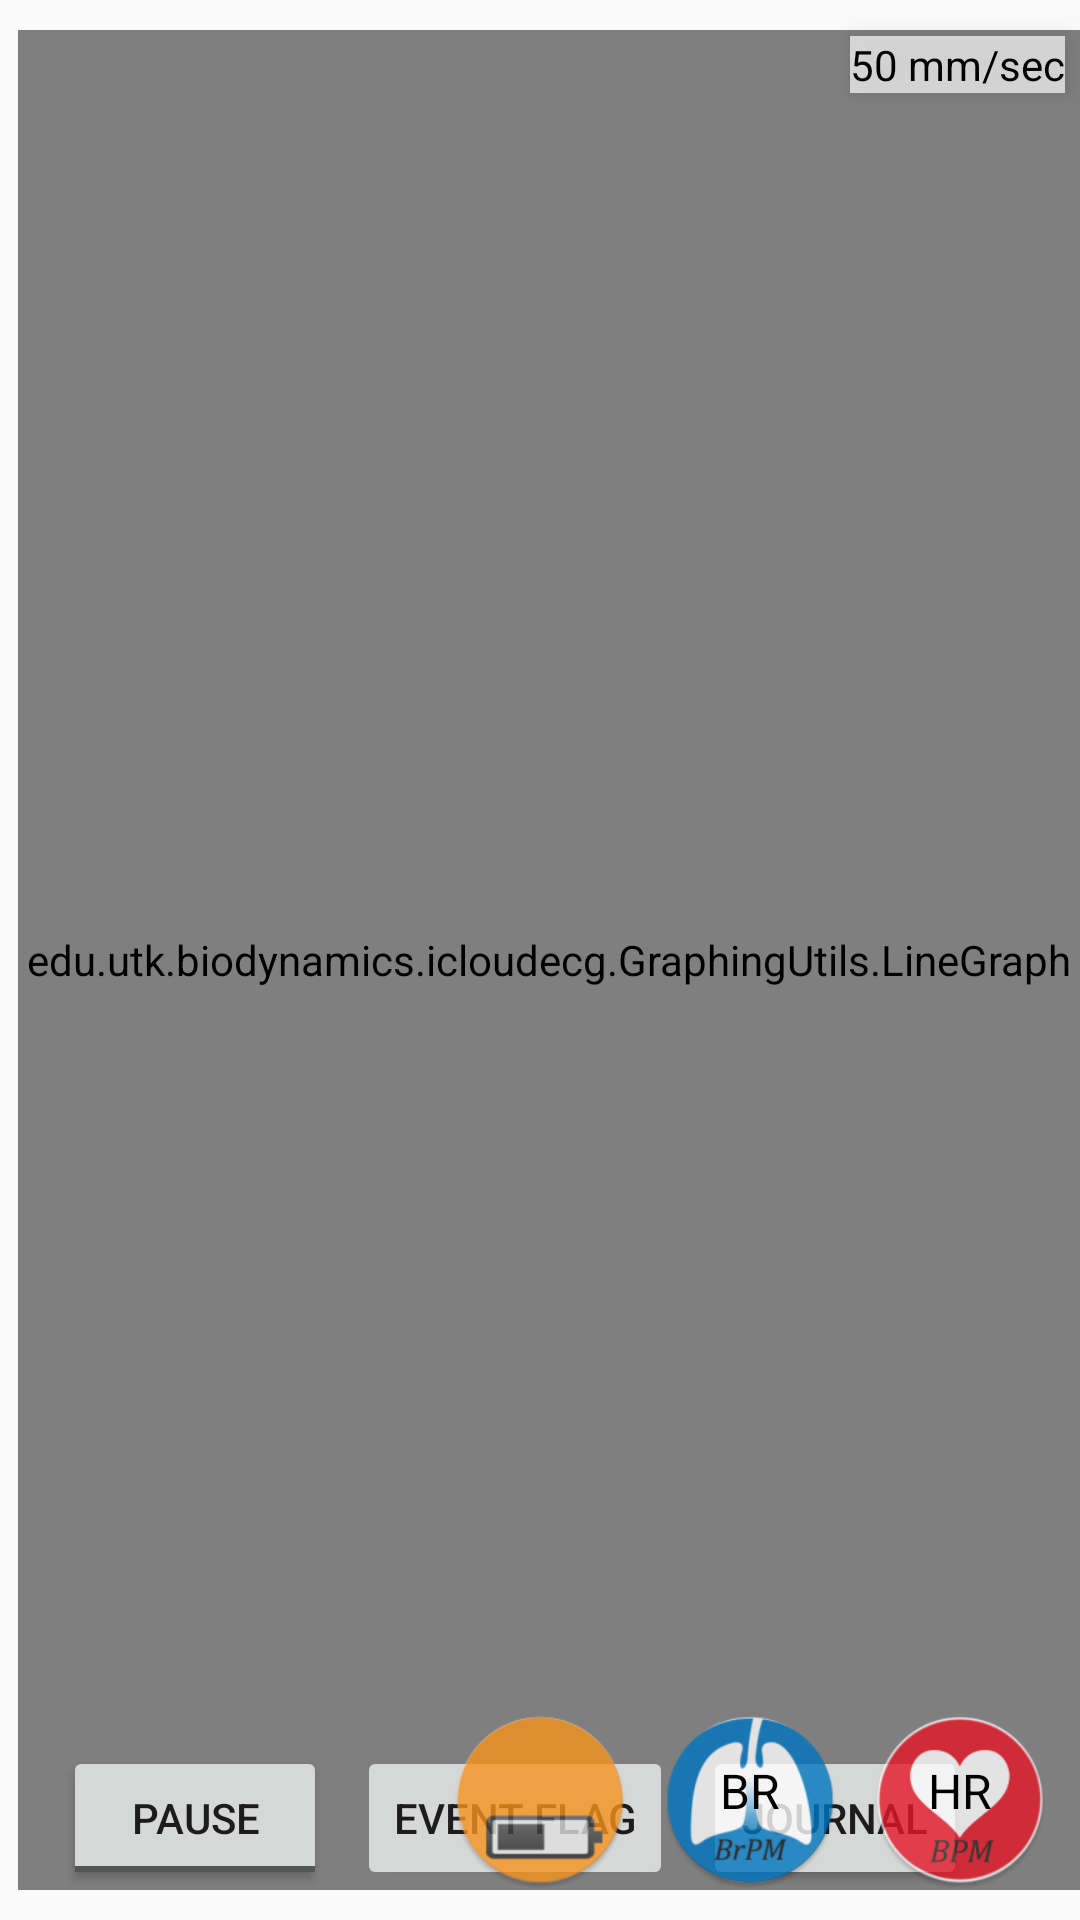

Icons on this 1080 × 1920 Android screen, each with the point to tap as [x,y]:
batt: [540,1800]
